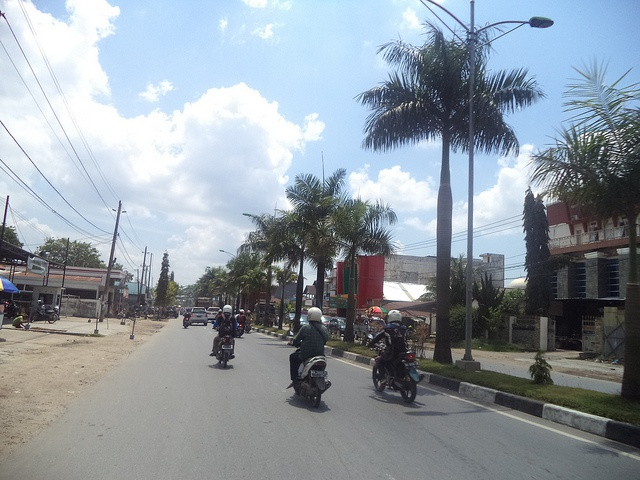non-vehicle: (370, 346, 429, 402), (297, 355, 332, 408), (214, 334, 235, 368), (182, 314, 192, 328), (235, 322, 244, 337), (217, 315, 224, 330), (244, 319, 251, 333)
